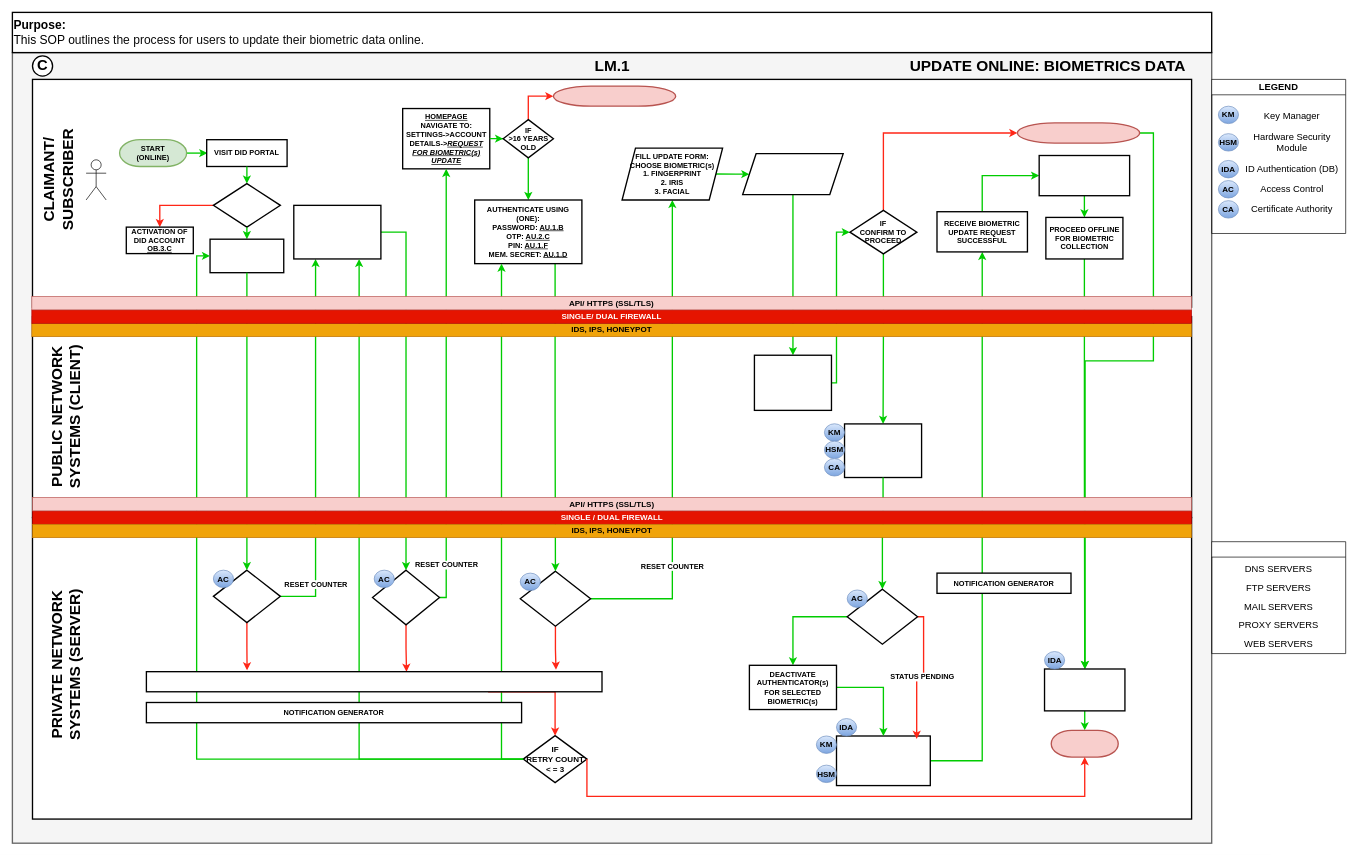
The diagram is 1357 pixels wide and 855 high, and some of its shapes have lost their labels. The shapes that lost their labels are listed below. From the top down, each one's box as (x1, y1, x2, y2) in pixels, then its label:
(552, 85, 676, 107): RETURN TO HOME PAGE: PROCEED OFFLINE
(1016, 122, 1140, 143): TERMINATE PROCESS
(85, 159, 106, 200): USER
(742, 153, 844, 195): FILL APPROPRIATE REASON TO UPDATE
(1038, 155, 1130, 196): DOWNLOAD ACKNOWLEDGEMENT FOR BIOMETRIC UPDATE
(212, 183, 281, 227): IF ACCOUNT ACTIVE
(293, 204, 381, 259): 2FA USING (ONE) OTP: AU.2.C PIN: AU.1.F MEM. SECRET: AU.1.D
(209, 238, 284, 273): LOGIN PASS. AUTH.: AU.1.B
(753, 354, 832, 411): WARN USER OF IMMEDIATE REVOCATION OF AUTHENTICATION FOR SELECTED BIOMETRIC(s)
(844, 423, 922, 478): MASK & ENCRYPT REQUESTED CHANGE OF EMAIL/PHONE NUMBER
(212, 569, 281, 623): IF PASS. AUTH. SUCCESS
(372, 569, 440, 625): IF 2FA SUCCESS
(519, 570, 591, 627): IF AUTH. SUCCESS
(1211, 541, 1346, 654): PUBLIC NETWORK
(846, 588, 918, 645): IF SELECTED BIOMETRIC(s) EXIST
(145, 671, 602, 692): EXCEPTION AND ERROR HANDLING (COUNTER)
(1044, 668, 1125, 711): LOGS THE PROCESS AND STATUS
(835, 735, 931, 786): STORE BIOMETRIC UPDATE STATUS IN UIN ACCOUNT
(1050, 729, 1119, 757): END
